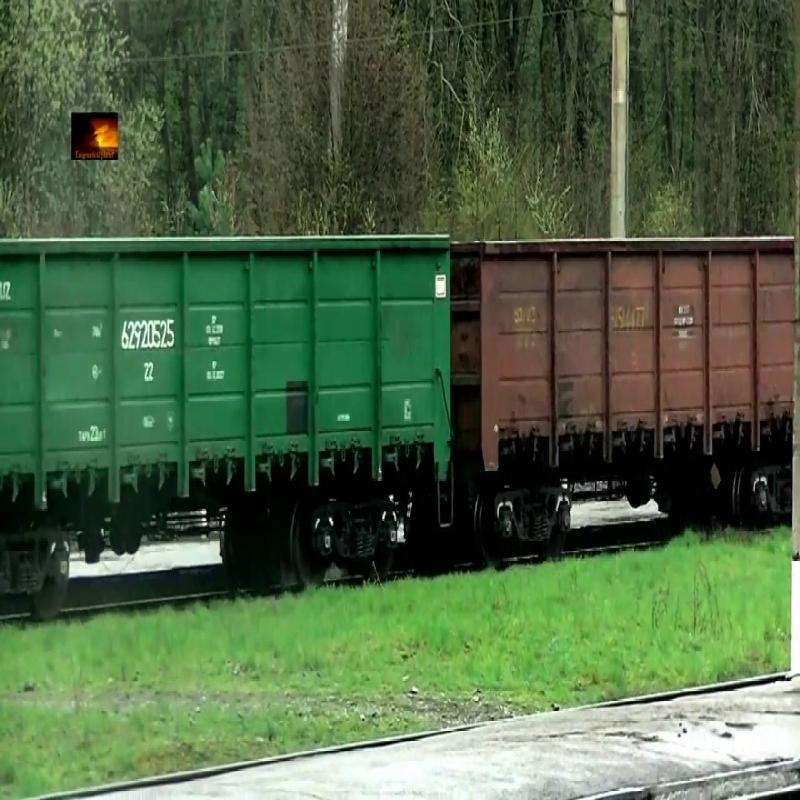train: (1, 232, 451, 516), (452, 236, 796, 465)
